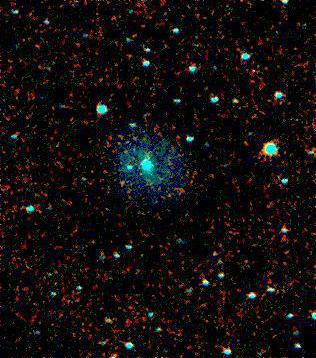star: (106, 165, 136, 195)
